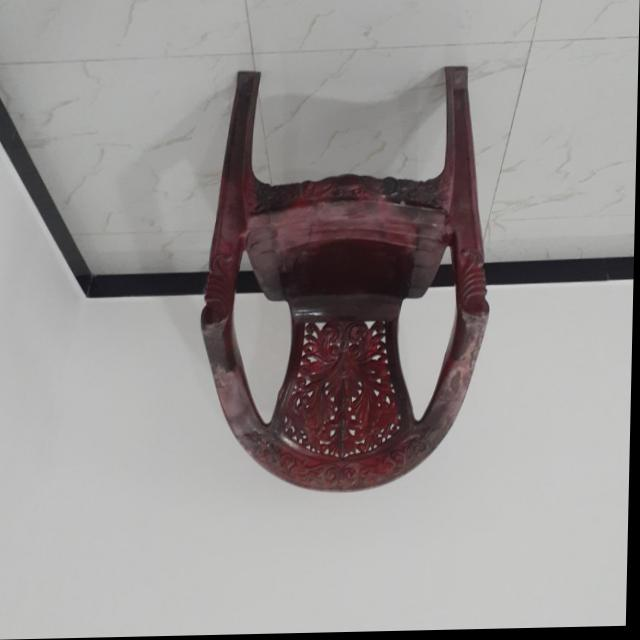Chair: (199, 67, 490, 498)
